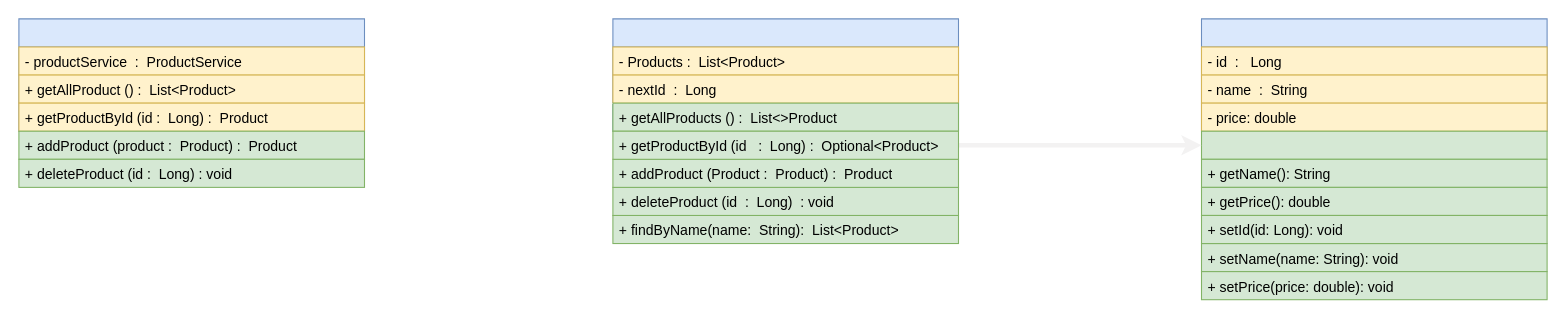
This 1566x322 diagram has some shape labels left out. The box of each missing label's shape, as (x1, y1, x2, y2) in pixels:
+ getId(): Long: (1200, 130, 1547, 159)
Product: (1200, 18, 1547, 131)
ProductController: (18, 18, 364, 131)
ProductService: (612, 18, 959, 131)
